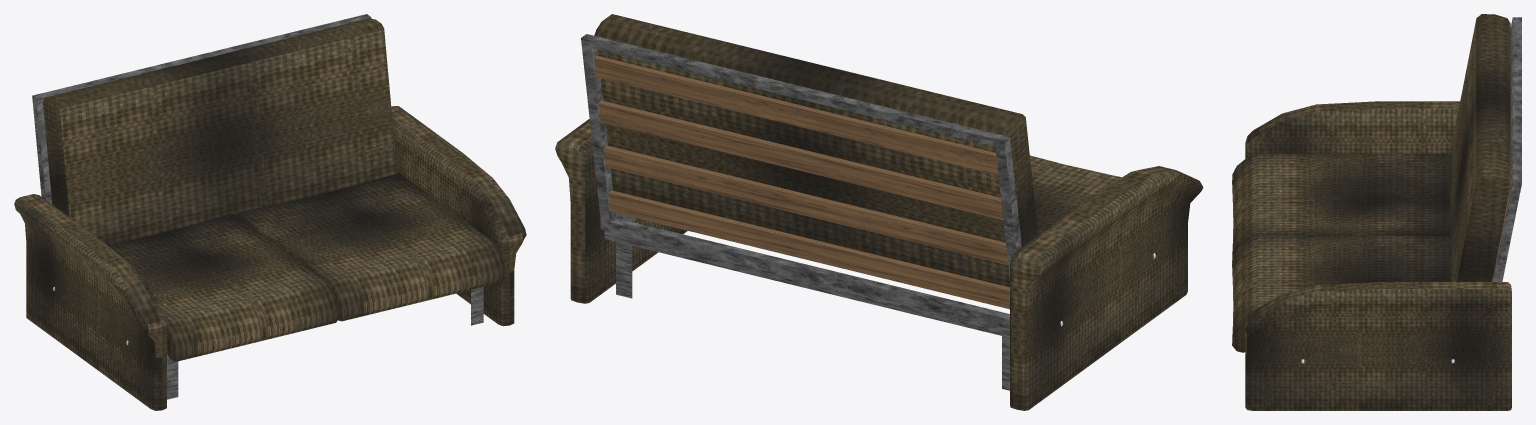
Rendered from old_sofa.glb.
3 renders of one model, left to right at view 1: azimuth 30°, elevation 25°; view 2: azimuth 150°, elevation 25°; view 3: azimuth 270°, elevation 25°, orthographic. The views are drawn at different scales.
Visible parts, largest first — view 1: Box004, Box007, Box003, Box008, Box002, Box001, Object004_Iron Rough Rusty_0; view 2: Box004, Object003_Walnut Matte_0, Box008, Box001, Box002, Object004_Iron Rough Rusty_0, Box003; view 3: Box002, Box003, Box004, Box007, Box008, Box001, Object003_Walnut Matte_0.
Part boxes in pixels (bbox=[...]): Box004: bbox=[43, 18, 397, 245]; Box007: bbox=[236, 173, 505, 321]; Box003: bbox=[107, 213, 339, 361]; Box008: bbox=[14, 194, 166, 410]; Box002: bbox=[391, 106, 526, 326]; Box001: bbox=[32, 14, 371, 204]; Object004_Iron Rough Rusty_0: bbox=[167, 287, 483, 399]; Box004: bbox=[594, 14, 1038, 287]; Object003_Walnut Matte_0: bbox=[594, 55, 1009, 309]; Box008: bbox=[1010, 166, 1203, 410]; Box001: bbox=[581, 34, 1021, 328]; Box002: bbox=[555, 119, 687, 303]; Object004_Iron Rough Rusty_0: bbox=[604, 217, 1009, 390]; Box003: bbox=[1030, 155, 1121, 235]; Box002: bbox=[1245, 282, 1511, 410]; Box003: bbox=[1232, 153, 1449, 262]; Box004: bbox=[1449, 14, 1510, 281]; Box007: bbox=[1232, 236, 1449, 352]; Box008: bbox=[1245, 101, 1460, 158]; Box001: bbox=[1492, 17, 1521, 281]; Object003_Walnut Matte_0: bbox=[1492, 40, 1511, 281].
Bounding box in the file's own units: 2.24 × 1.22 × 1.42.
5 materials, 5 textured.
